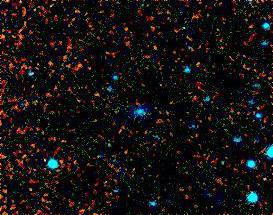star: (30, 144, 60, 174)
